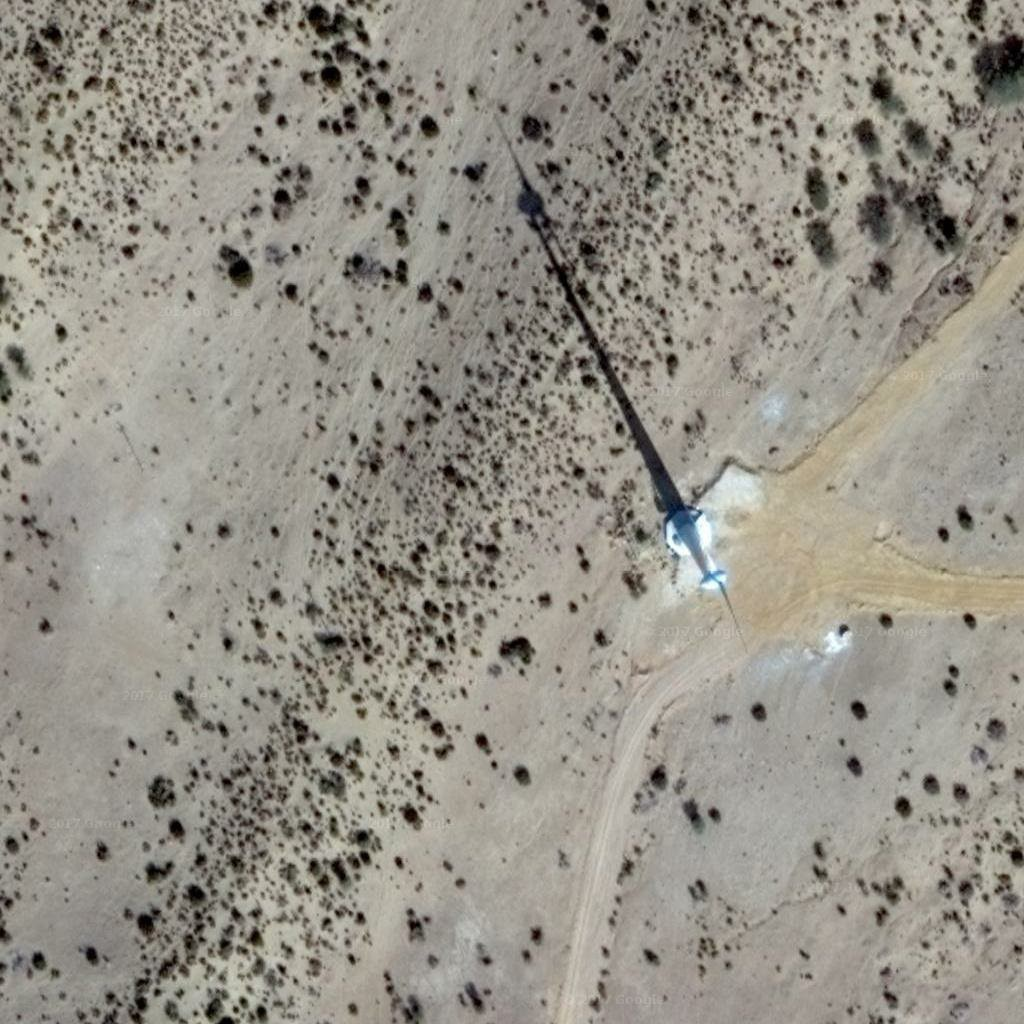Windmill: (487, 113, 695, 523)
